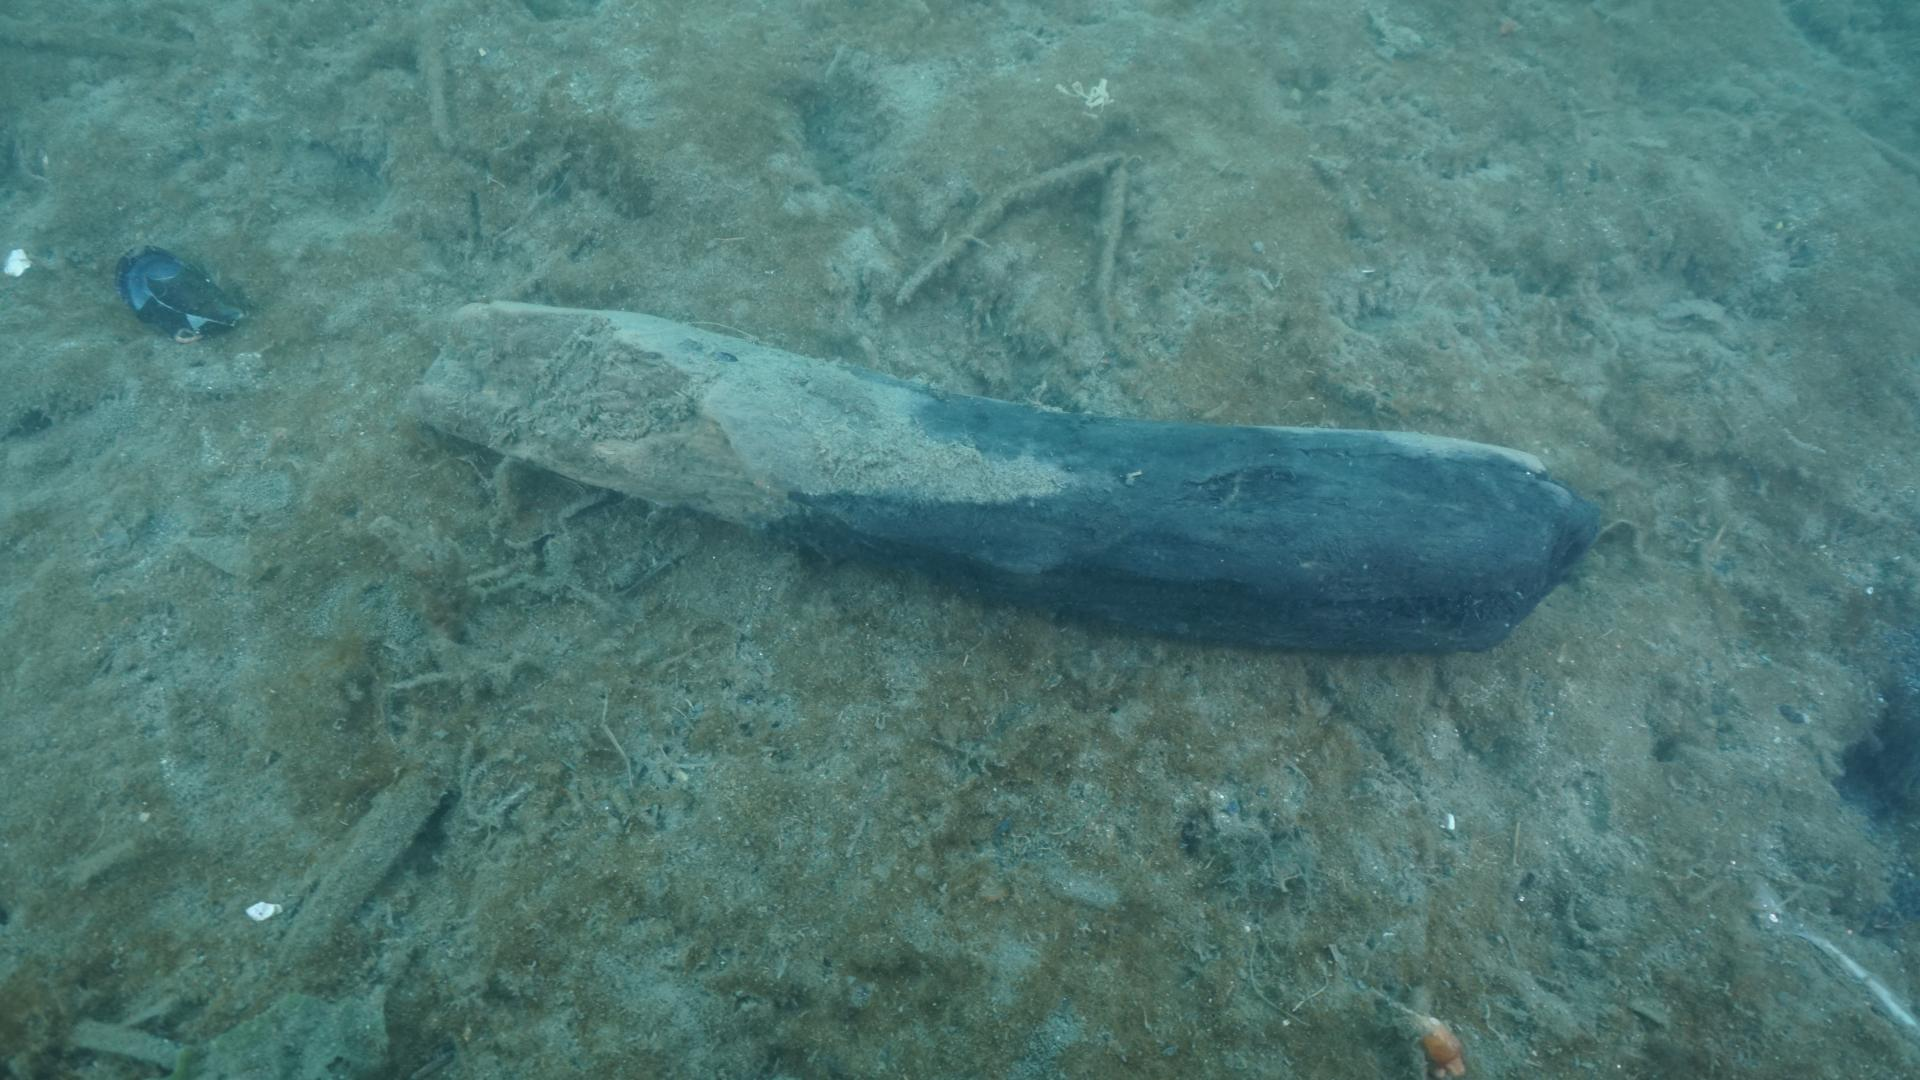wood: (389, 297, 1604, 665)
